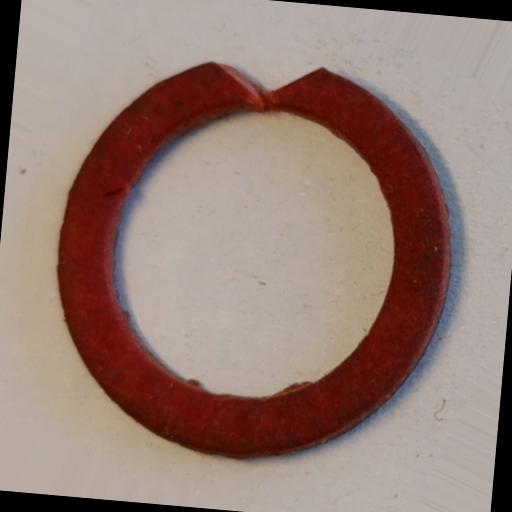defect: (206, 55, 326, 117)
